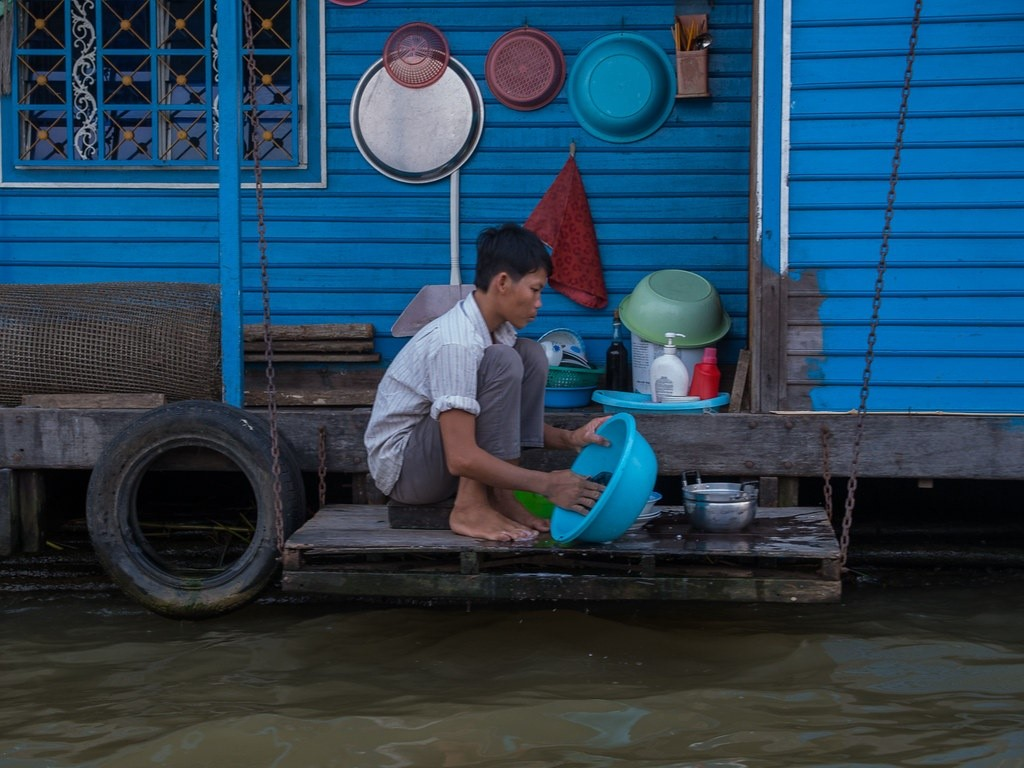face_no_mask: (473, 221, 550, 331)
